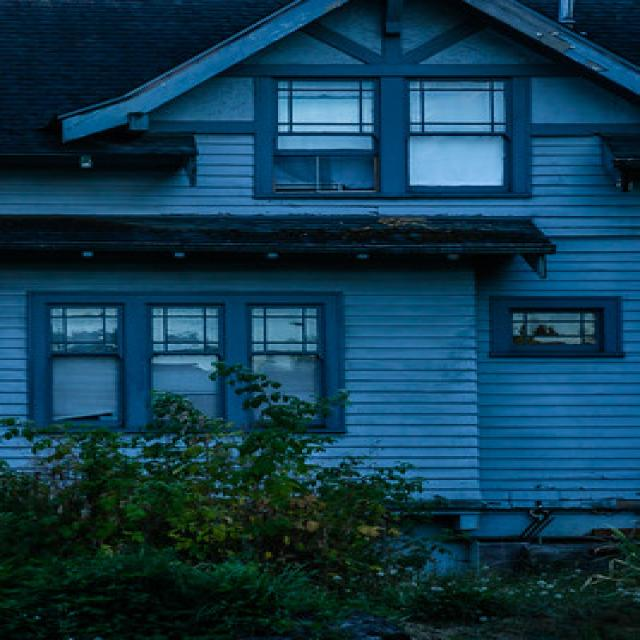Normal_building: (5, 2, 640, 624)
